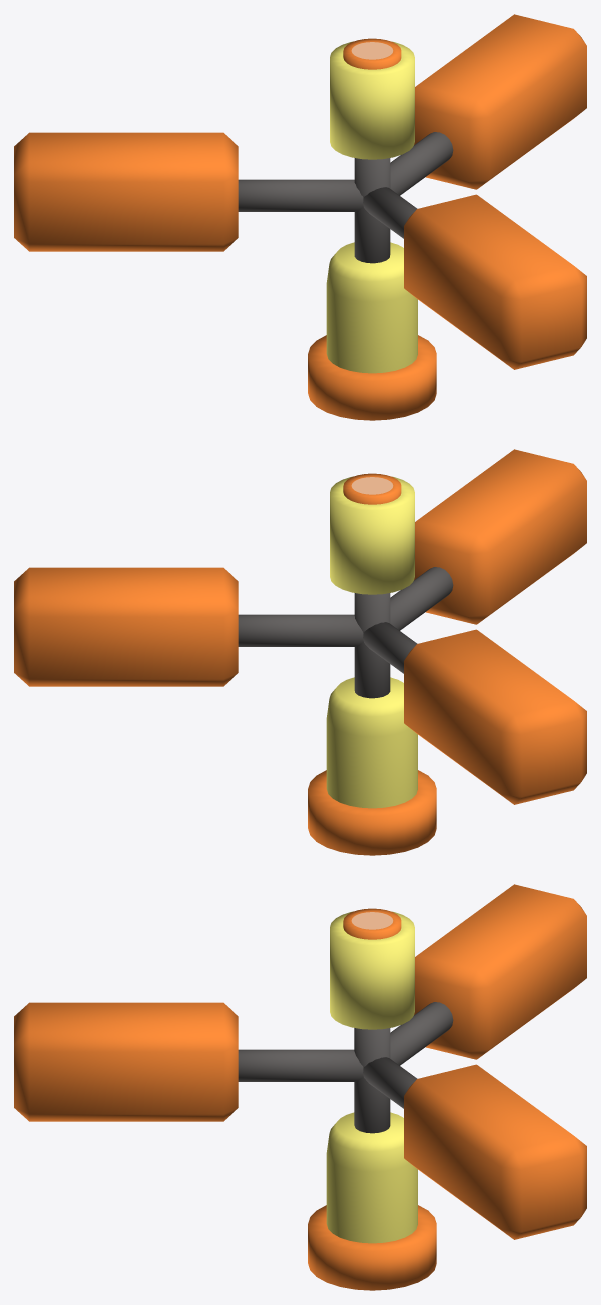
File: Obstacle 12 V3.fbx
3 views of the same model, one above another, from view 1: azimuth 30°, elevation 25°; view 2: azimuth 150°, elevation 25°; view 3: azimuth 270°, elevation 25° (orthographic).
Parts seen in each view (by area): view 1: O12 Part 1, O12 Part 2; view 2: O12 Part 1, O12 Part 2; view 3: O12 Part 1, O12 Part 2.
Part boxes in pixels (x1=…): O12 Part 1: x1=14, y1=14, x2=586, y2=369; O12 Part 2: x1=308, y1=38, x2=436, y2=420; O12 Part 1: x1=14, y1=449, x2=586, y2=804; O12 Part 2: x1=308, y1=473, x2=436, y2=855; O12 Part 1: x1=14, y1=884, x2=586, y2=1239; O12 Part 2: x1=308, y1=908, x2=436, y2=1290.
Size of the model in its own units: 229 by 132 by 200.
1 material, 1 textured.
